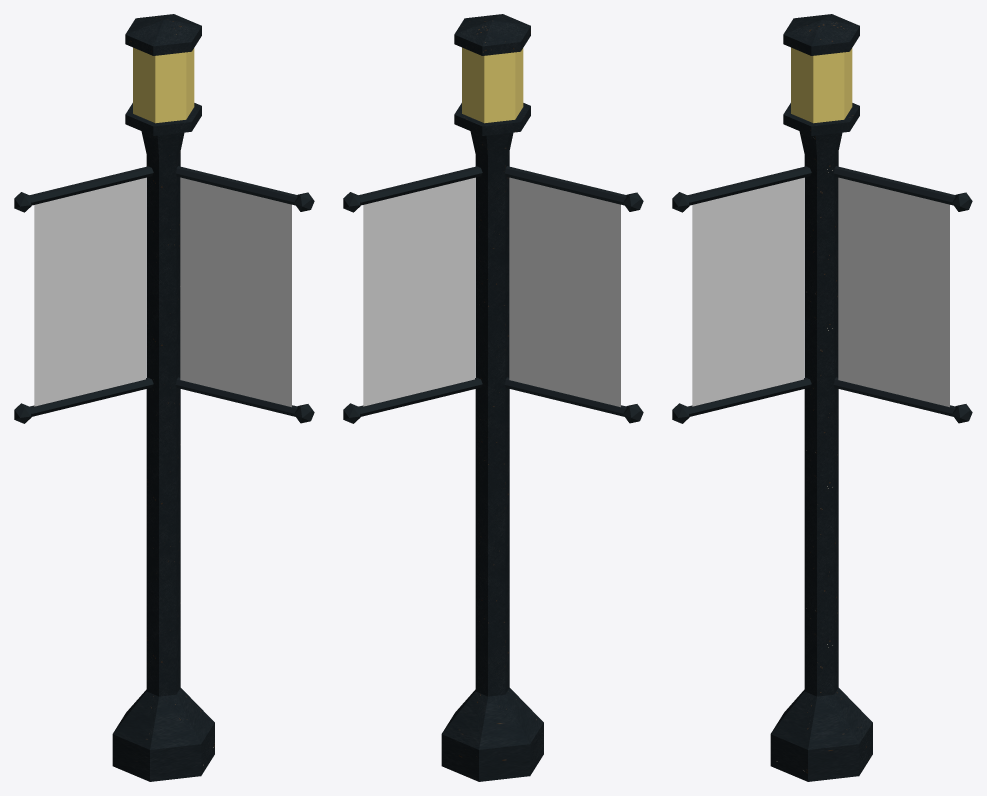
The model's file is farola_2.glb.
3 renders of one model, left to right at view 1: azimuth 30°, elevation 25°; view 2: azimuth 150°, elevation 25°; view 3: azimuth 270°, elevation 25°, orthographic.
Visible parts, largest first — view 1: LampPost.011; view 2: LampPost.011; view 3: LampPost.011.
Boxes of the visible parts, box(x1,y1,x2,y2) form: LampPost.011: box(14, 14, 314, 781); LampPost.011: box(343, 14, 643, 781); LampPost.011: box(672, 14, 972, 781).
Bounding box in the file's own units: 1.49 × 4.63 × 1.7.
Materials: 2 (2 with a texture image).
